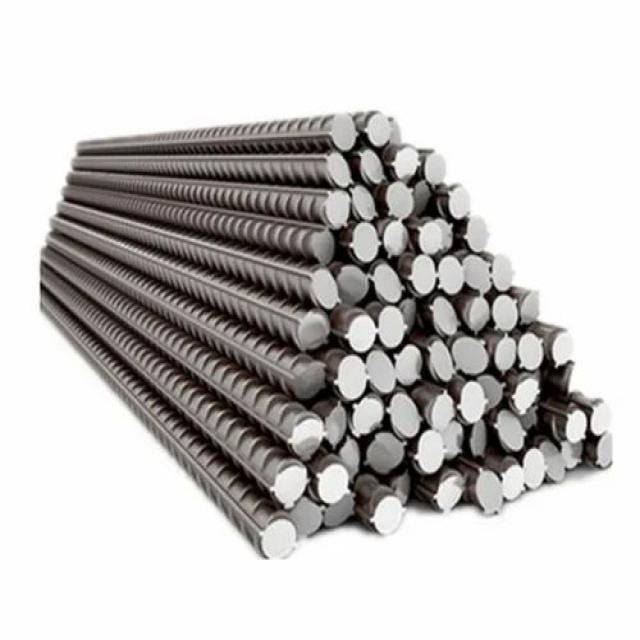Rebar: (260, 517, 301, 563), (387, 391, 422, 438), (274, 465, 311, 509), (455, 331, 489, 378), (370, 430, 405, 475), (298, 308, 330, 357), (292, 418, 326, 464), (293, 357, 325, 405), (416, 427, 450, 472), (335, 356, 366, 405), (286, 497, 325, 534), (372, 496, 408, 533), (321, 491, 357, 528), (348, 220, 381, 260), (366, 351, 397, 393), (339, 263, 370, 305), (339, 432, 365, 482), (461, 254, 493, 294), (461, 381, 492, 422), (316, 462, 348, 501), (324, 399, 348, 451), (377, 302, 405, 346), (372, 263, 405, 300), (479, 373, 508, 414), (498, 411, 531, 447), (478, 469, 505, 512), (432, 471, 465, 506), (440, 419, 468, 460), (332, 111, 363, 148), (540, 441, 566, 485), (356, 396, 383, 438), (466, 291, 493, 333), (360, 148, 389, 187), (392, 143, 423, 179), (413, 255, 440, 296), (429, 339, 455, 381), (313, 269, 343, 305), (432, 292, 458, 333), (513, 375, 541, 413), (429, 389, 457, 427), (415, 215, 443, 253), (519, 332, 546, 371), (326, 151, 353, 190), (437, 253, 464, 292), (347, 313, 376, 349), (322, 192, 351, 228), (466, 214, 493, 252), (388, 181, 417, 216), (396, 345, 422, 384), (385, 469, 413, 505), (550, 326, 575, 366), (411, 179, 437, 217), (559, 439, 588, 473), (351, 185, 380, 219), (524, 449, 548, 489), (500, 464, 525, 502), (522, 288, 547, 326), (313, 224, 336, 264), (385, 219, 409, 257), (493, 292, 518, 328), (426, 151, 451, 187), (495, 339, 521, 373), (494, 252, 518, 288), (563, 409, 588, 443), (589, 400, 612, 436), (470, 419, 493, 455), (368, 110, 391, 145), (451, 183, 472, 221), (570, 360, 589, 399), (520, 400, 543, 432), (598, 434, 616, 473), (437, 216, 457, 251), (402, 296, 419, 331), (389, 114, 406, 146)
